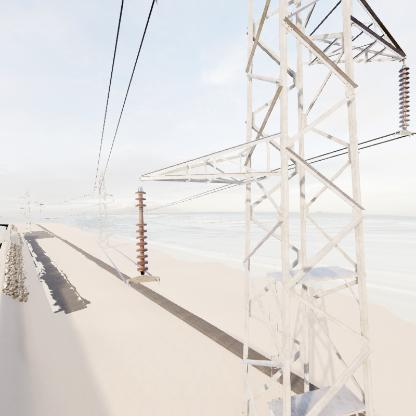insulator: (134, 187, 151, 276), (396, 66, 412, 133)
